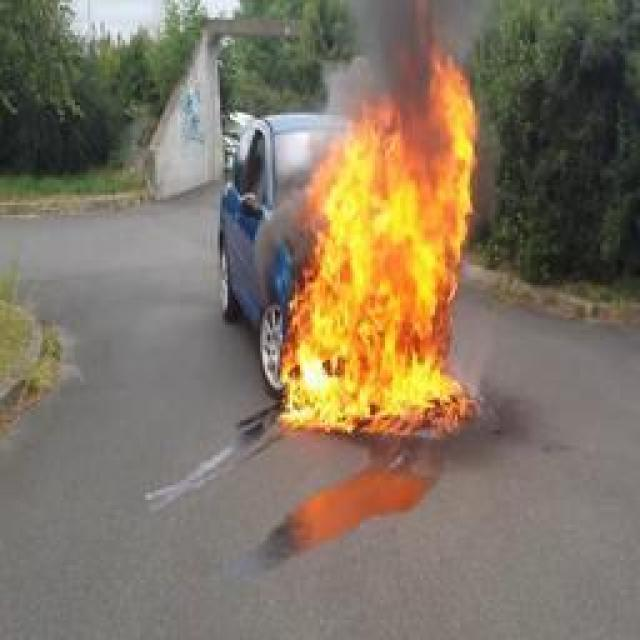Fire: (280, 48, 480, 428)
